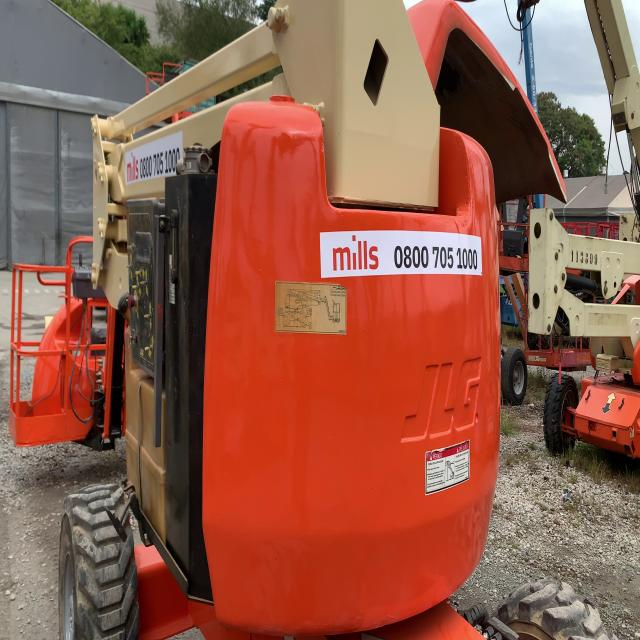Adesivo Longo: (319, 229, 483, 280), (125, 130, 183, 187)
